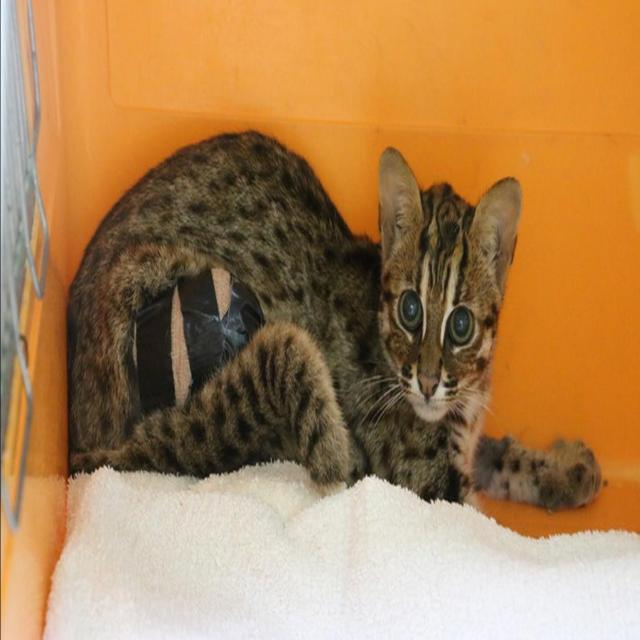leopard: (104, 155, 532, 491)
